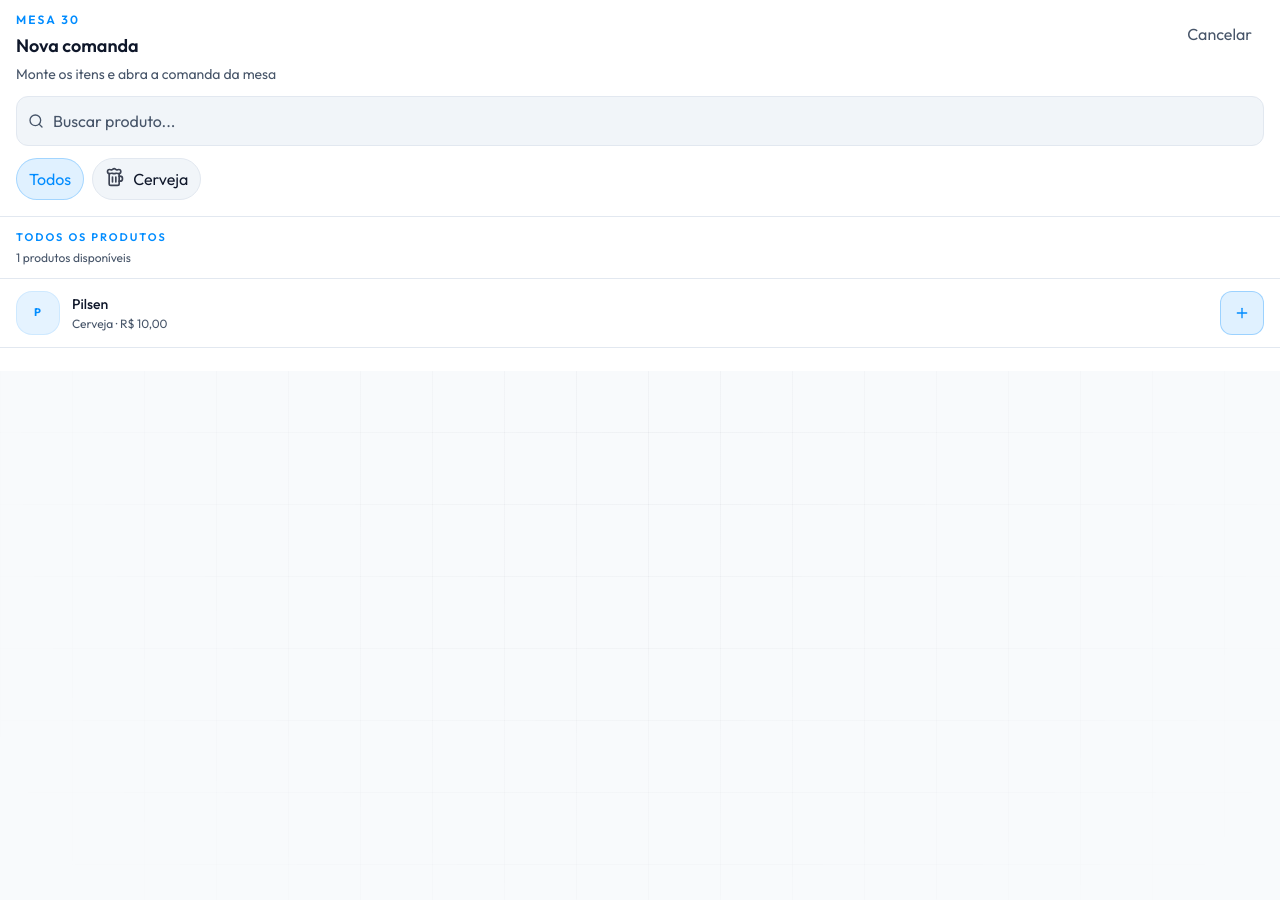
Scenario: MobileOrderBuilder › só mostra o dock de abertura depois que o carrinho recebe itens
Click the button named "adicionar pilsen".
click(1242, 312)  # box [1220,290,1264,334]
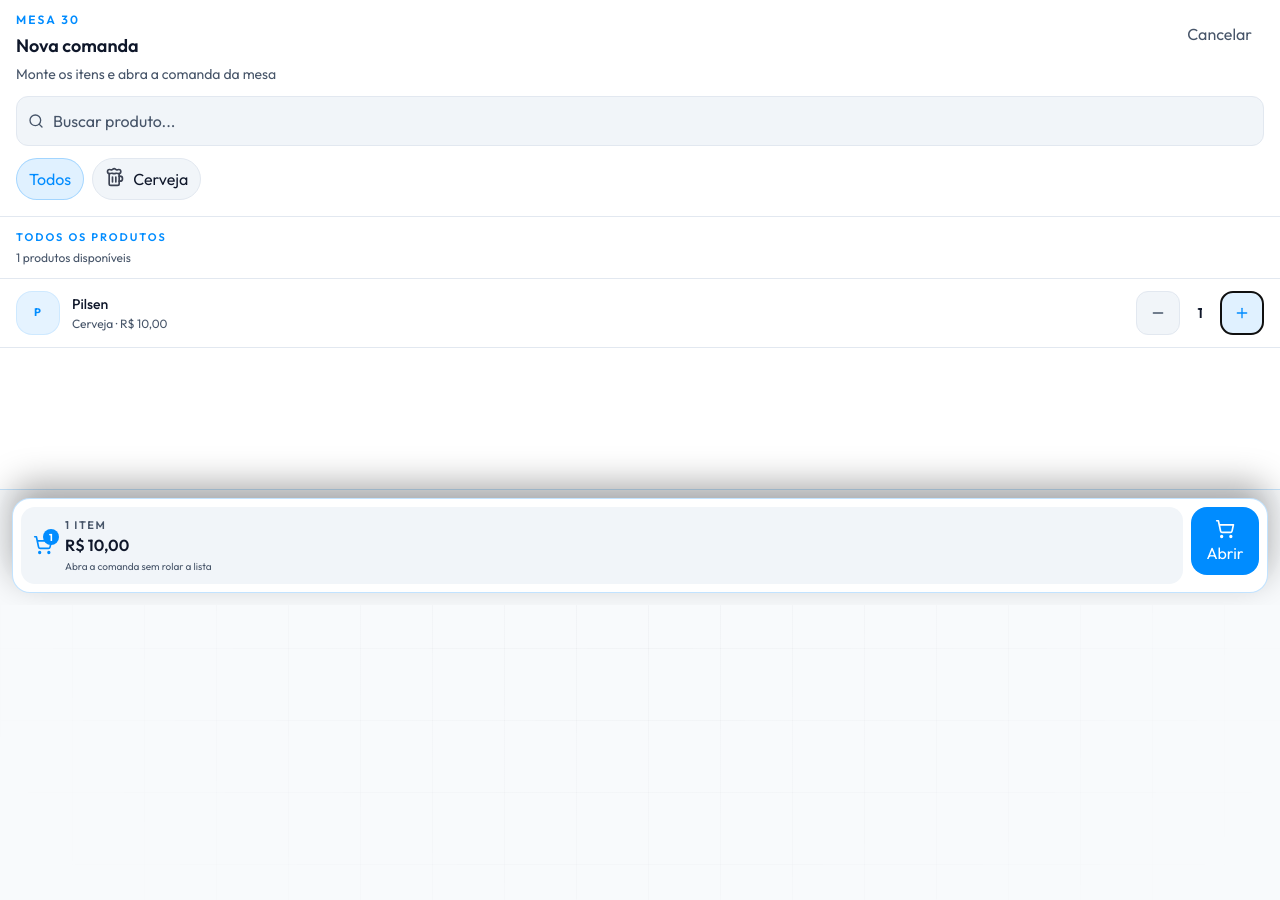
Result: the element with test id "mobile-order-checkout-dock" is shown at [0,488,1279,605]
Result: the button named "abrir comanda" is shown at [1191,506,1259,574]
Result: the text "Abrir" is shown at [1206,542,1244,562]
